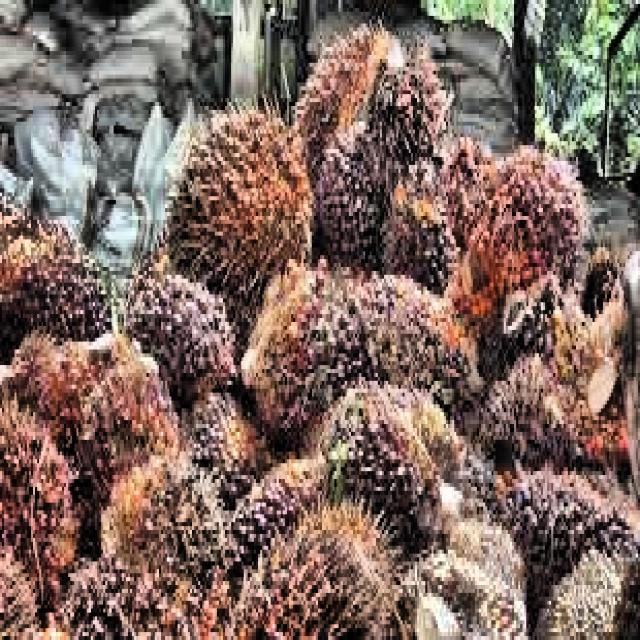FFB: (293, 32, 439, 270), (164, 118, 309, 354), (326, 373, 465, 543), (242, 270, 367, 423), (102, 459, 225, 584), (124, 269, 227, 394)
